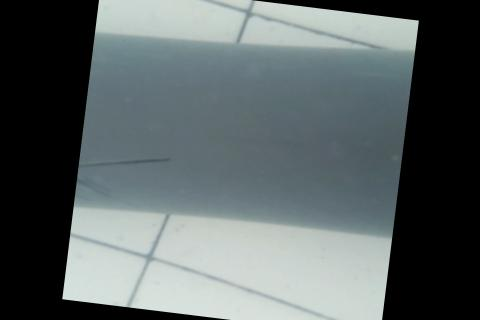keretakan: (74, 145, 173, 206)
